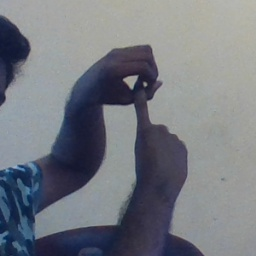Q: (63, 37, 195, 162)
